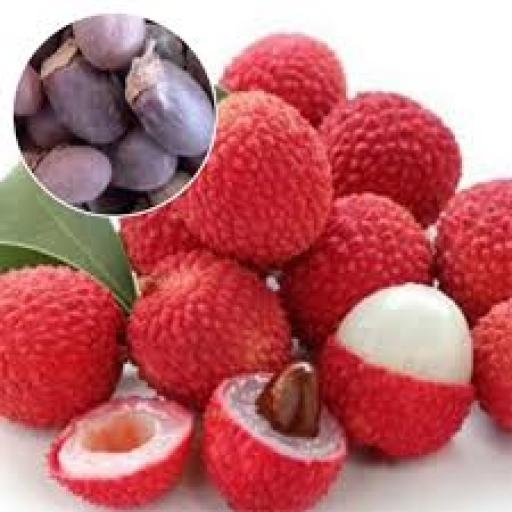lychee: (180, 92, 332, 266), (321, 285, 473, 457), (128, 251, 291, 409), (283, 194, 432, 345), (203, 362, 345, 511), (0, 267, 122, 425), (321, 94, 461, 225), (48, 399, 193, 507), (221, 35, 345, 125), (437, 180, 511, 323), (121, 203, 202, 275), (474, 301, 511, 430)
